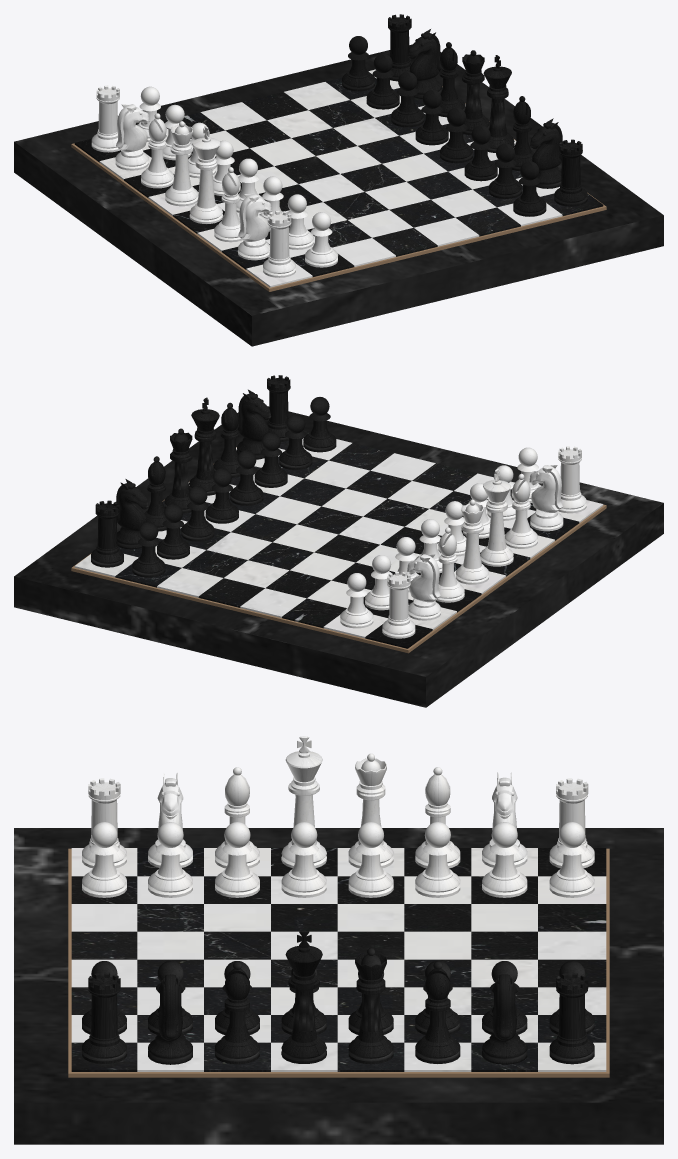
File: DecoupledChessBoard.fbx
The picture shows the model from 3 angles, top to bottom: view 1: azimuth 30°, elevation 25°; view 2: azimuth 150°, elevation 25°; view 3: azimuth 270°, elevation 25°; orthographic projection. The views are drawn at different scales.
Parts seen in each view (by area): view 1: Chess Board, W_King, W_Knight_2, W_Knight_1, W_Queen, B_Knight_1, B_King, B_Knight_2, B_Rook_1, W_Rook_1, W_Rook_2, B_Queen (+55 smaller); view 2: Chess Board, W_King, W_Knight_1, W_Knight_2, W_Queen, B_Knight_2, B_King, B_Knight_1, W_Rook_2, B_Rook_2, B_Queen, W_Rook_1 (+55 smaller); view 3: Chess Board, B_King, B_Queen, B_Rook_2, B_Rook_1, B_Bishop_2, B_Bishop_1, W_King, B_Knight_2, B_Knight_1, W_Pawn_7, W_Pawn_8 (+85 smaller).
Part boxes in pixels (<box>): Chess Board: <box>14,44,663,346</box>; W_King: <box>189,126,223,223</box>; W_Knight_2: <box>115,104,149,170</box>; W_Knight_1: <box>238,194,271,260</box>; W_Queen: <box>165,121,198,206</box>; B_Knight_1: <box>530,118,562,188</box>; B_King: <box>483,55,514,152</box>; B_Knight_2: <box>407,29,441,98</box>; B_Rook_1: <box>554,139,587,206</box>; W_Rook_1: <box>263,210,295,277</box>; W_Rook_2: <box>91,85,120,152</box>; B_Queen: <box>462,50,489,135</box>; Chess Board: <box>14,406,663,707</box>; W_King: <box>480,468,513,566</box>; W_Knight_1: <box>529,465,563,531</box>; W_Knight_2: <box>407,554,440,620</box>; W_Queen: <box>456,499,488,584</box>; B_Knight_2: <box>116,479,148,549</box>; B_King: <box>189,397,219,495</box>; B_Knight_1: <box>237,389,271,459</box>; W_Rook_2: <box>382,571,415,638</box>; B_Rook_2: <box>91,500,123,567</box>; B_Queen: <box>164,428,192,513</box>; W_Rook_1: <box>558,446,586,513</box>; Chess Board: <box>14,828,663,1144</box>; B_King: <box>281,931,326,1063</box>; B_Queen: <box>348,948,393,1064</box>; B_Rook_2: <box>549,972,594,1064</box>; B_Rook_1: <box>82,972,126,1063</box>; B_Bishop_2: <box>415,961,460,1063</box>; B_Bishop_1: <box>215,961,259,1064</box>; W_King: <box>281,736,326,868</box>; B_Knight_2: <box>482,974,527,1064</box>; B_Knight_1: <box>148,974,192,1064</box>; W_Pawn_7: <box>482,822,527,897</box>; W_Pawn_8: <box>549,822,594,897</box>.
Bounding box in the file's own units: 17.78 × 5.26 × 17.78.
